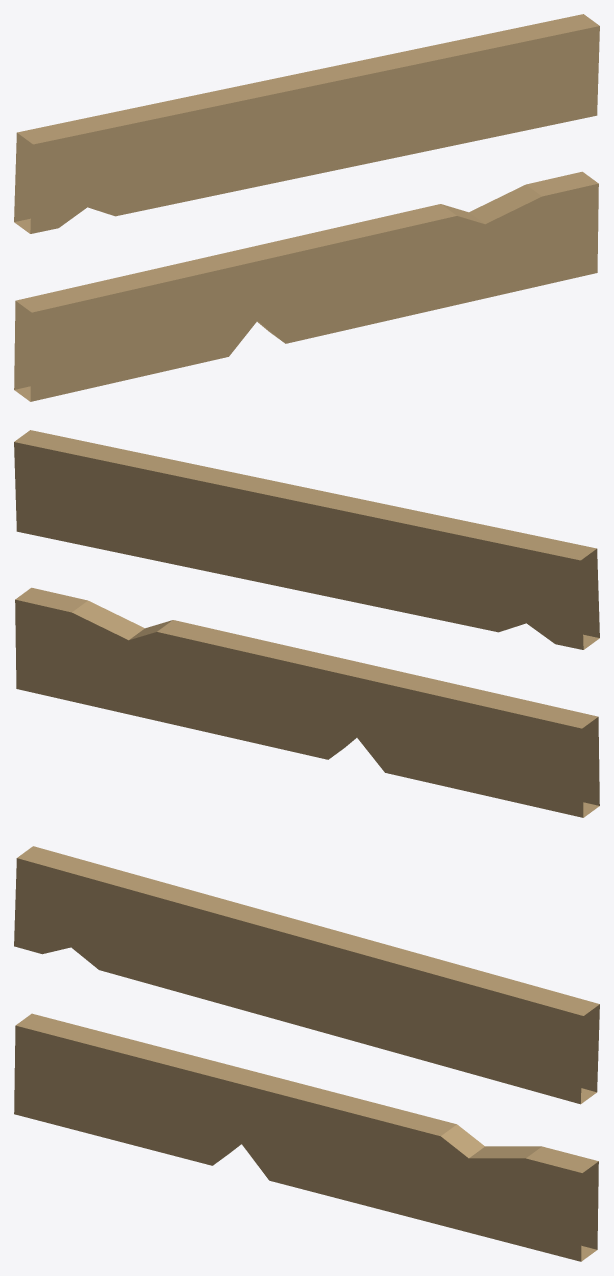
File: Hilly_Prop_Fence_Boards_2.obj
3 renders of one model, top to bottom at view 1: azimuth 30°, elevation 25°; view 2: azimuth 150°, elevation 25°; view 3: azimuth 330°, elevation 25°, orthographic.
Parts seen in each view (by area): view 1: object2, object1; view 2: object2, object1; view 3: object2, object1.
Boxes of the visible parts, box(x1,y1,x2,y2) form: object2: box(14, 14, 599, 233); object1: box(14, 171, 598, 401); object2: box(14, 430, 599, 649); object1: box(15, 587, 599, 817); object2: box(14, 846, 599, 1104); object1: box(14, 1013, 598, 1261).
Size of the model in its own units: 1 by 0.4484 by 0.05.
